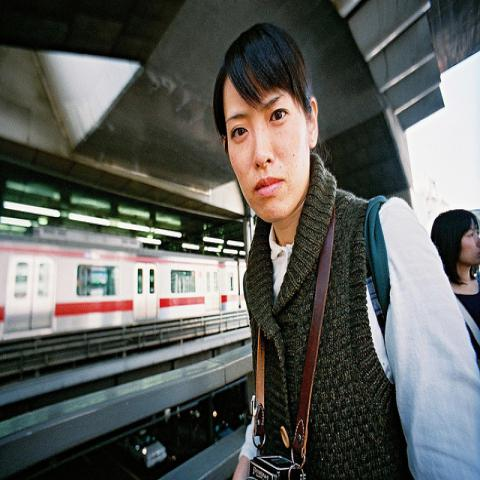car: (118, 427, 170, 470)
